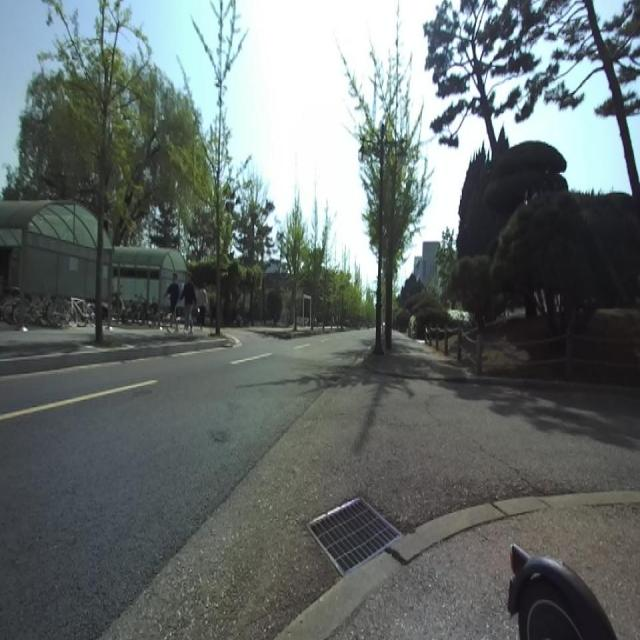sidewalk: (331, 504, 640, 639), (367, 332, 452, 380)
